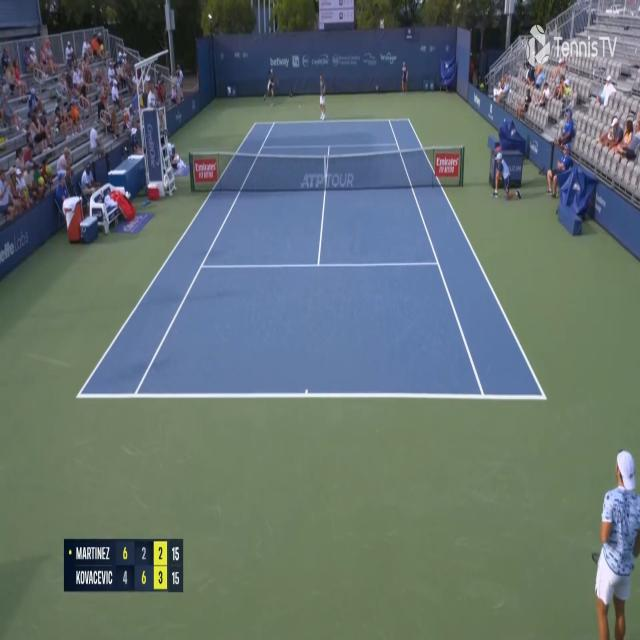tennis-player: (588, 448, 640, 638), (317, 72, 328, 122)
